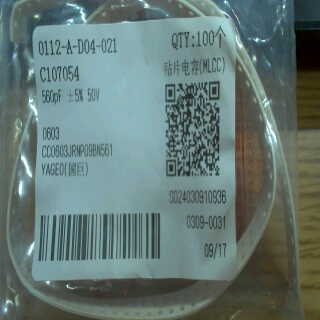560pF: (38, 87, 66, 107)
